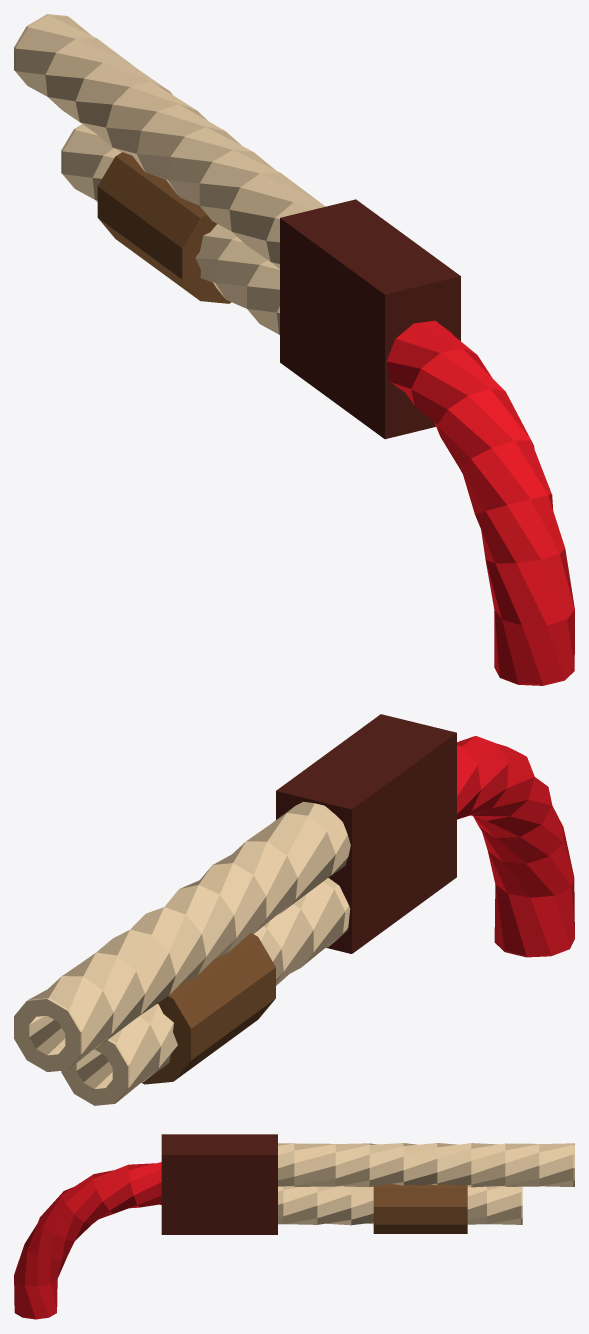
The model's file is shotgunKKKKKKKKKKKKKKKKKKK.fbx.
The picture shows the model from 3 angles, top to bottom: view 1: azimuth 30°, elevation 25°; view 2: azimuth 150°, elevation 25°; view 3: azimuth 270°, elevation 25°; orthographic projection. The views are drawn at different scales.
Visible parts, largest first — view 1: Cylinder.014, Cube.002, Cylinder.011, Cylinder.013, Cylinder.012; view 2: Cylinder.011, Cube.002, Cylinder.014, Cylinder.012, Cylinder.013; view 3: Cylinder.011, Cube.002, Cylinder.014, Cylinder.012, Cylinder.013.
Boxes of the visible parts, <box> form: Cylinder.014: <box>386,320,574,685</box>; Cube.002: <box>280,199,460,439</box>; Cylinder.011: <box>14,14,325,268</box>; Cylinder.013: <box>97,152,231,303</box>; Cylinder.012: <box>61,124,279,334</box>; Cylinder.011: <box>14,801,350,1071</box>; Cube.002: <box>276,714,456,953</box>; Cylinder.014: <box>457,736,574,957</box>; Cylinder.012: <box>61,878,350,1105</box>; Cylinder.013: <box>142,933,275,1084</box>; Cylinder.011: <box>278,1143,574,1187</box>; Cube.002: <box>161,1134,277,1234</box>; Cylinder.014: <box>14,1162,161,1319</box>; Cylinder.012: <box>278,1186,522,1225</box>; Cylinder.013: <box>373,1184,467,1233</box>.
Bounding box in the file's own units: 68.33 × 210 × 645.
